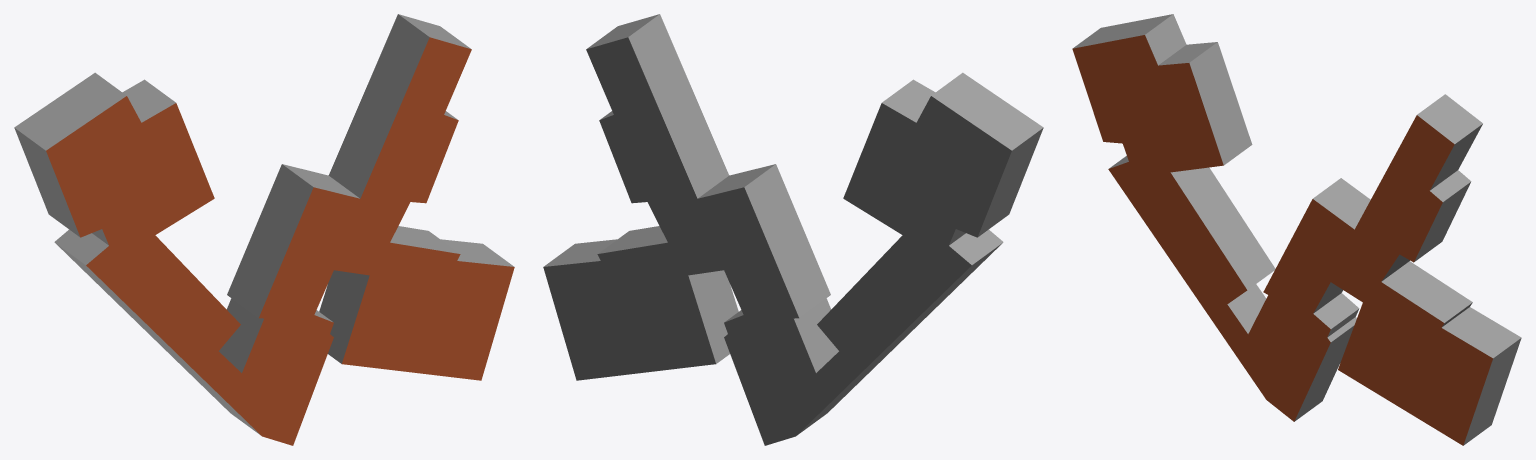
Rendered from construction_6645_assumed_A_Casa_h6m.obj.
The picture shows the model from 3 angles, left to right: view 1: azimuth 30°, elevation 25°; view 2: azimuth 150°, elevation 25°; view 3: azimuth 330°, elevation 25°; orthographic projection. The views are drawn at different scales.
Parts seen in each view (by area): view 1: construction_6645_assumed_A_Casa; view 2: construction_6645_assumed_A_Casa; view 3: construction_6645_assumed_A_Casa.
Boxes of the visible parts, x1,y1,x2,y2 form: construction_6645_assumed_A_Casa: (14, 14, 514, 445); construction_6645_assumed_A_Casa: (543, 14, 1043, 445); construction_6645_assumed_A_Casa: (1072, 14, 1521, 445).
Bounding box in the file's own units: 51.14 × 40.73 × 6.
